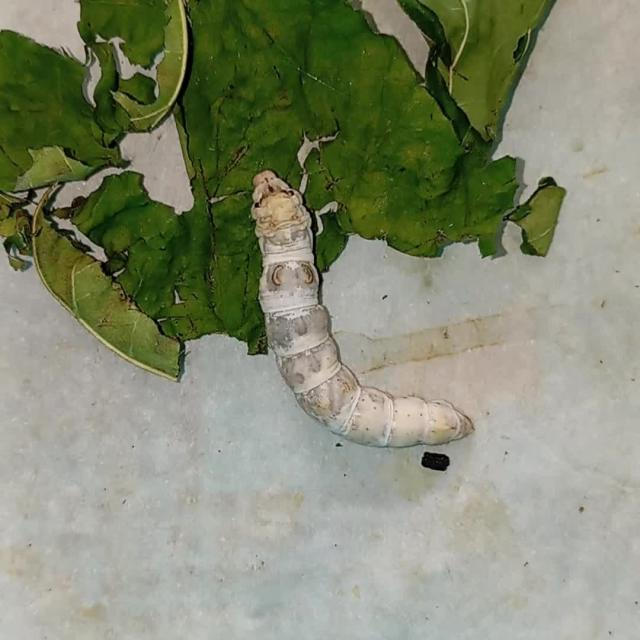Grasserie: (223, 153, 487, 462)
